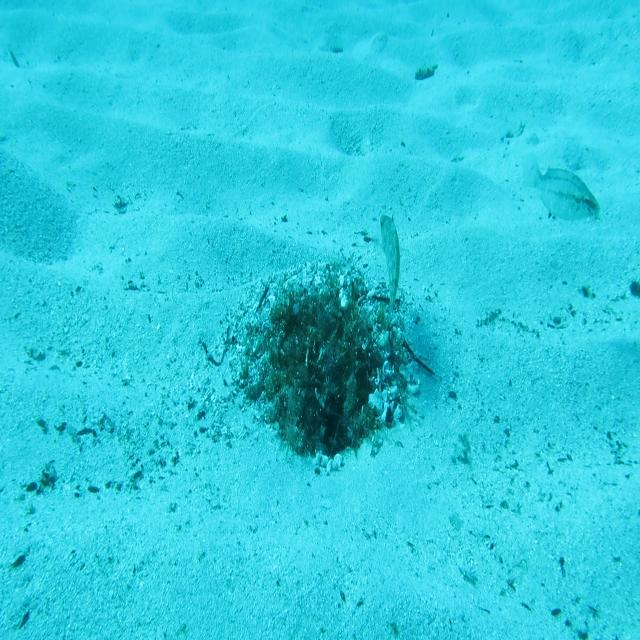BN: (369, 206, 414, 340)
core_nest: (294, 306, 336, 337)
female: (519, 147, 602, 224)
nest: (223, 248, 432, 494)
vegetation: (412, 64, 440, 83)
